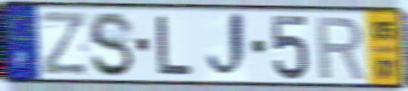5: (268, 13, 310, 82)
J: (204, 10, 251, 83)
L: (154, 14, 195, 77)
R: (314, 14, 367, 81)
S: (86, 10, 136, 80)
Z: (38, 9, 91, 78)
